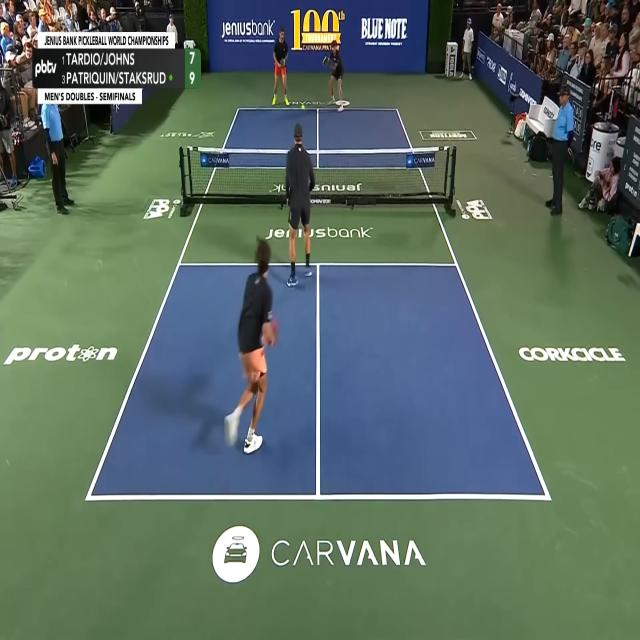ball: (300, 104, 306, 110)
